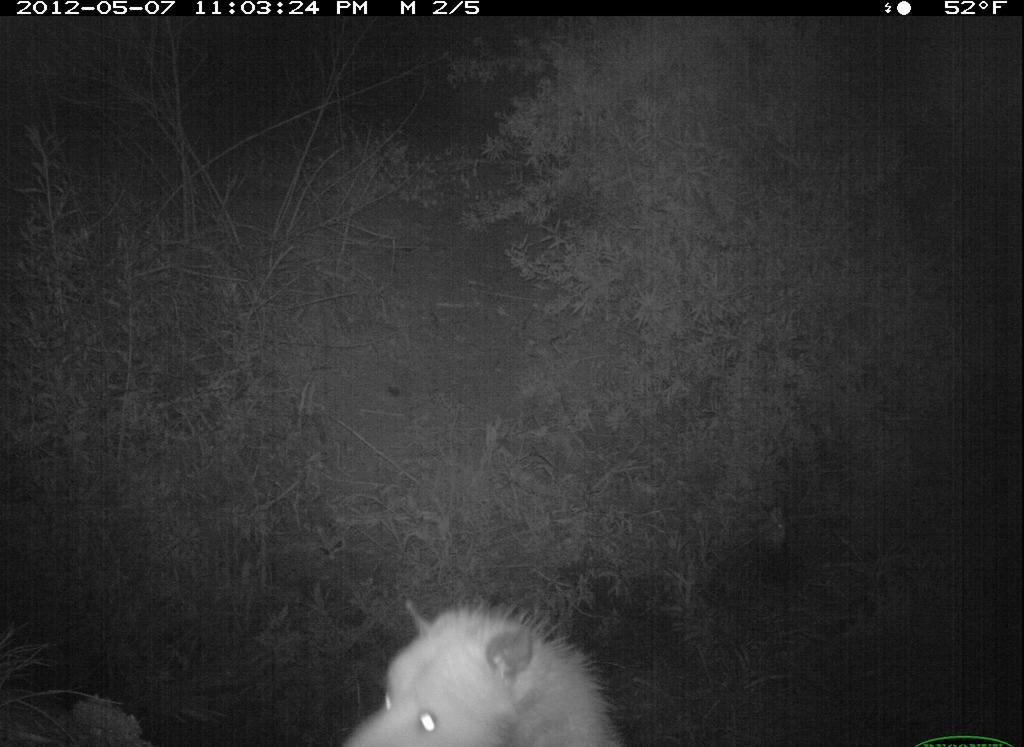opossum: (329, 578, 634, 747)
